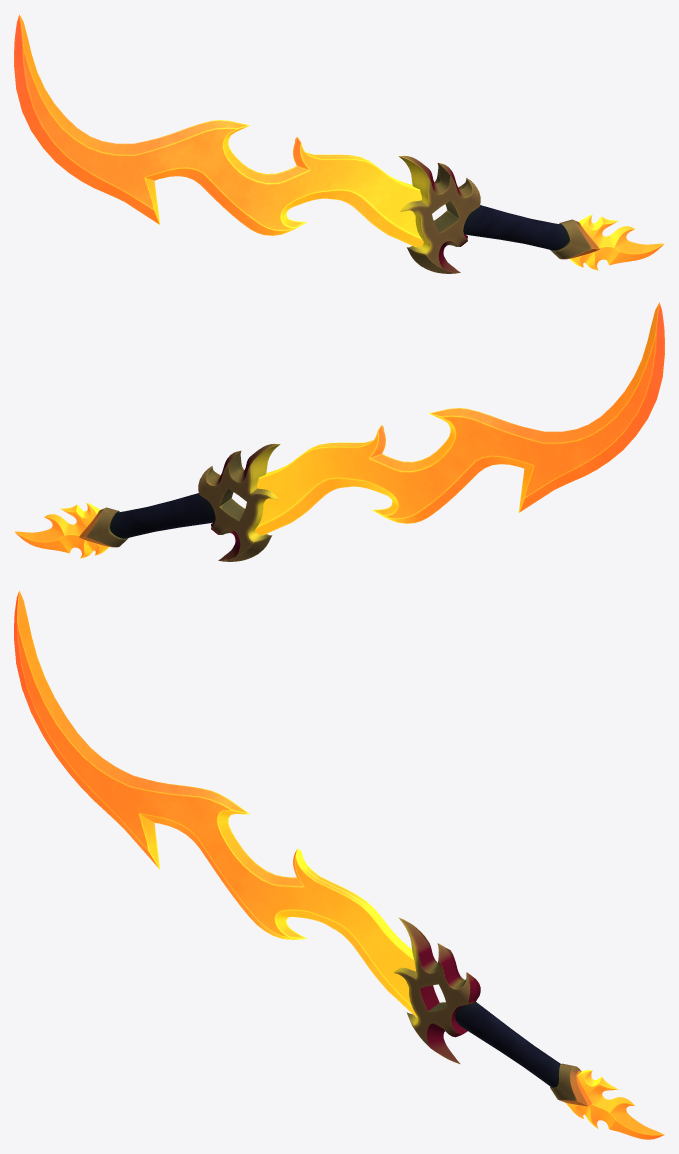
The model's file is flame_sword.glb.
3 views of the same model, one above another, from view 1: azimuth 30°, elevation 25°; view 2: azimuth 150°, elevation 25°; view 3: azimuth 330°, elevation 25° (orthographic).
Parts seen in each view (by area): view 1: Plane, Box, Cylinder, Plane.001, Cylinder.001; view 2: Plane, Box, Cylinder, Plane.001, Cylinder.001; view 3: Plane, Box, Cylinder, Plane.001, Cylinder.001.
Part boxes in pixels (x1,y1,x2,y2): Plane: (14, 14, 423, 247); Box: (398, 155, 480, 273); Cylinder: (463, 205, 568, 250); Plane.001: (570, 215, 664, 270); Cylinder.001: (550, 219, 599, 259); Plane: (255, 302, 664, 535); Box: (198, 443, 280, 561); Cylinder: (110, 493, 215, 538); Plane.001: (14, 503, 108, 558); Cylinder.001: (79, 507, 128, 547); Plane: (14, 590, 417, 1017); Box: (394, 917, 480, 1064); Cylinder: (455, 1002, 560, 1087); Plane.001: (565, 1070, 664, 1139); Cylinder.001: (550, 1063, 591, 1106).
Bounding box in the file's own units: 1.13 × 0.6577 × 0.0459.
1 material, 1 textured.
